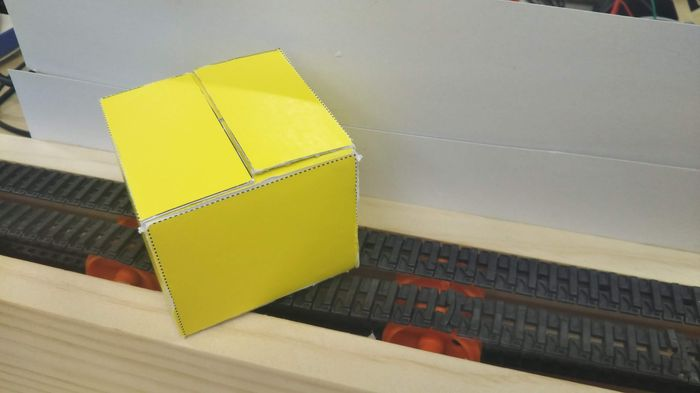box4: (94, 43, 362, 338)
